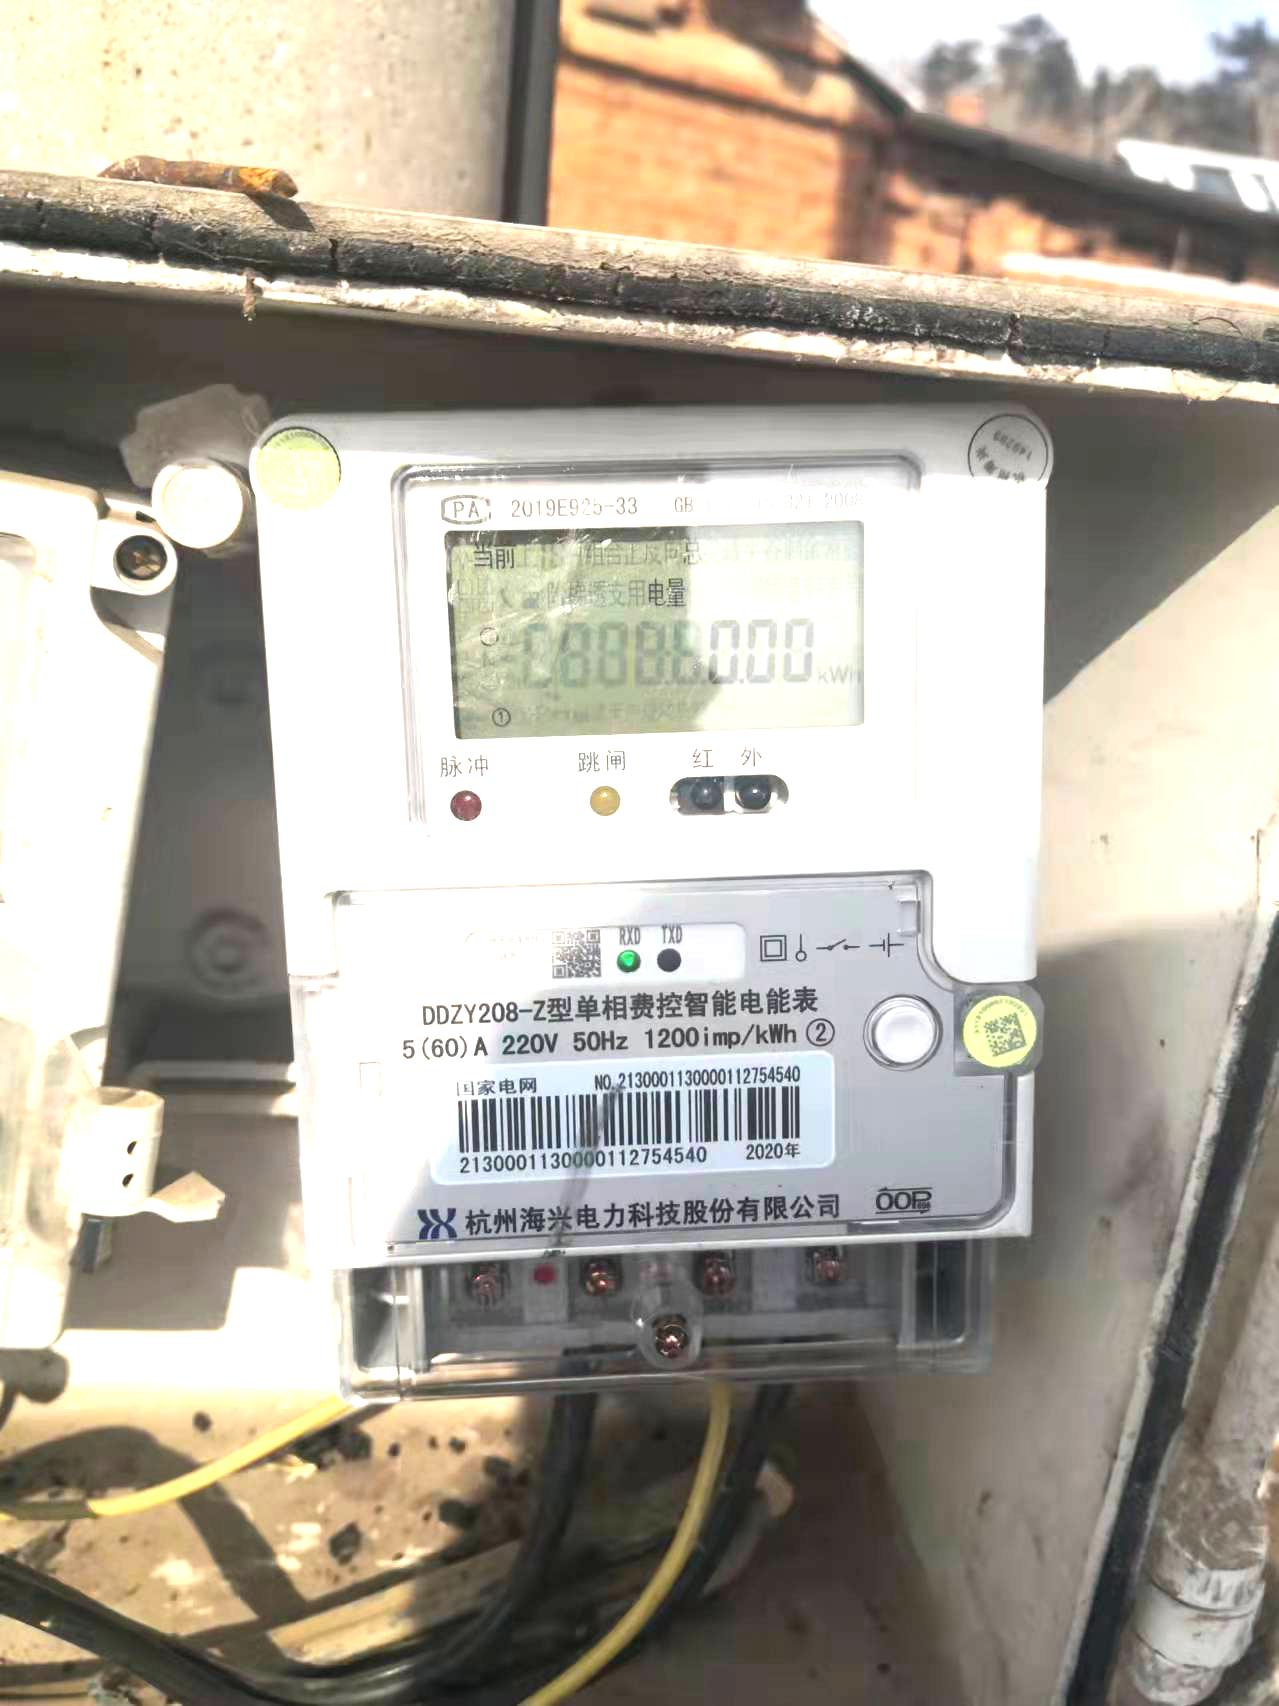digital: (246, 404, 1041, 1239)
